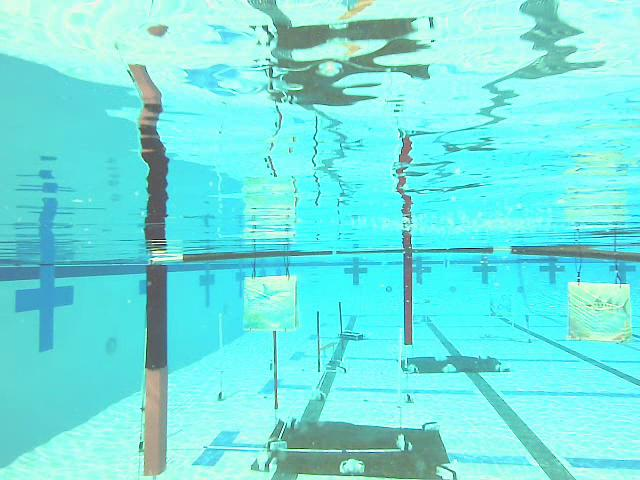black_poster: (273, 331, 276, 409), (317, 311, 320, 371), (339, 304, 343, 348)
left_gate_poster: (147, 265, 166, 475)
shark: (245, 276, 296, 330)
swordfish: (568, 283, 630, 340)
white_poster: (216, 314, 226, 398)
